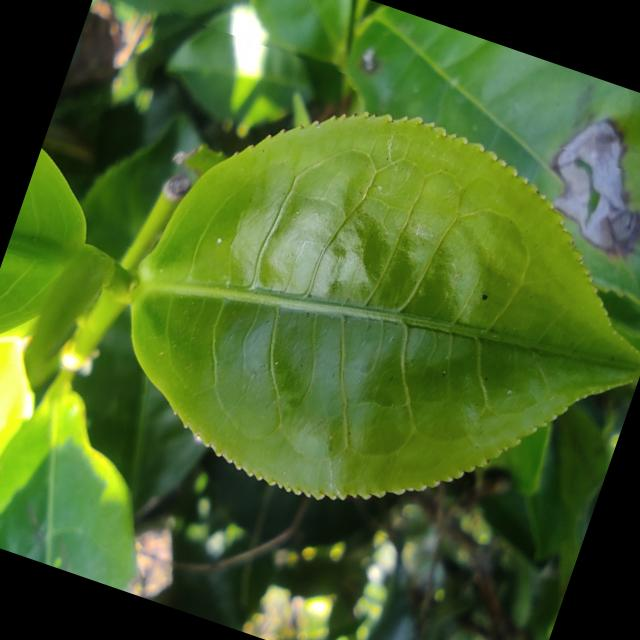Category C(4-7 days): (25, 11, 640, 608)
